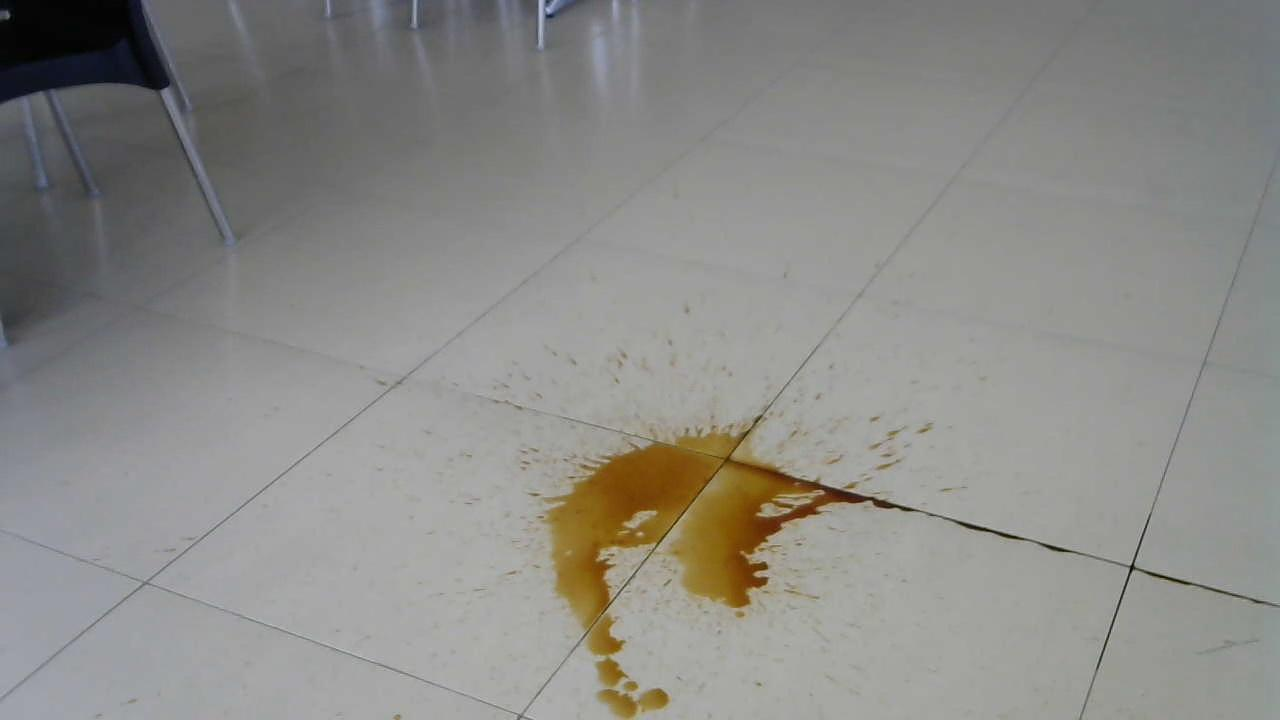dirty_floor: (526, 400, 902, 715)
